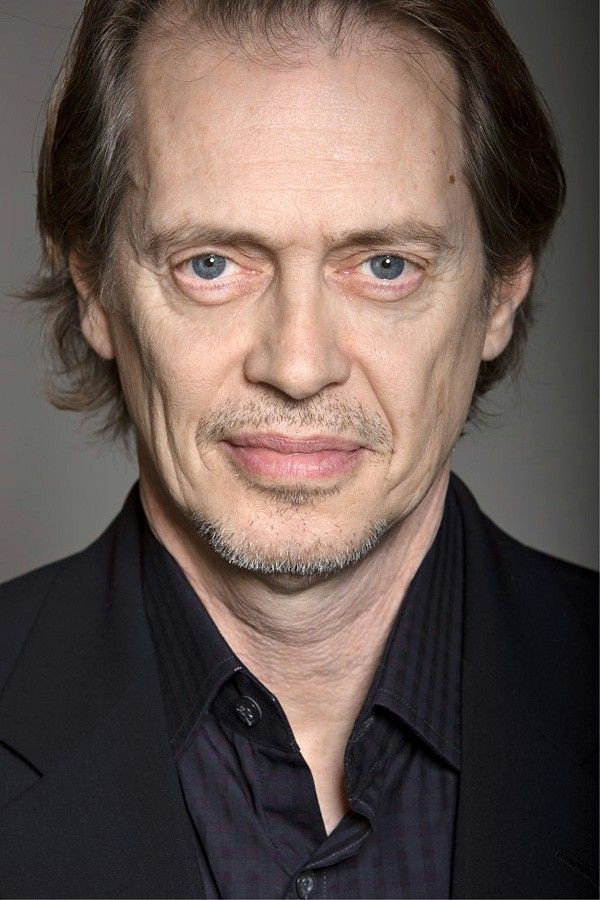bad: (118, 162, 504, 547)
